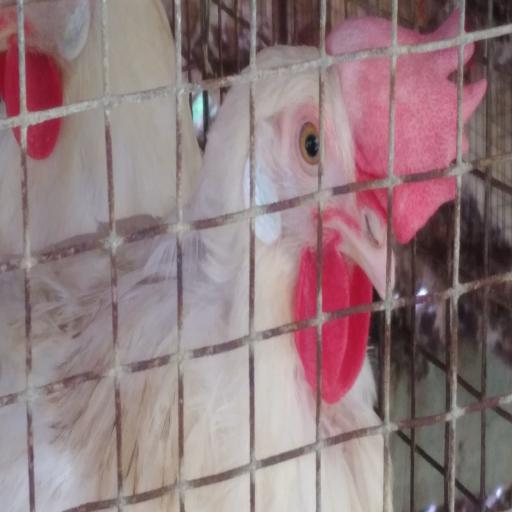healthy: (262, 36, 430, 367)
